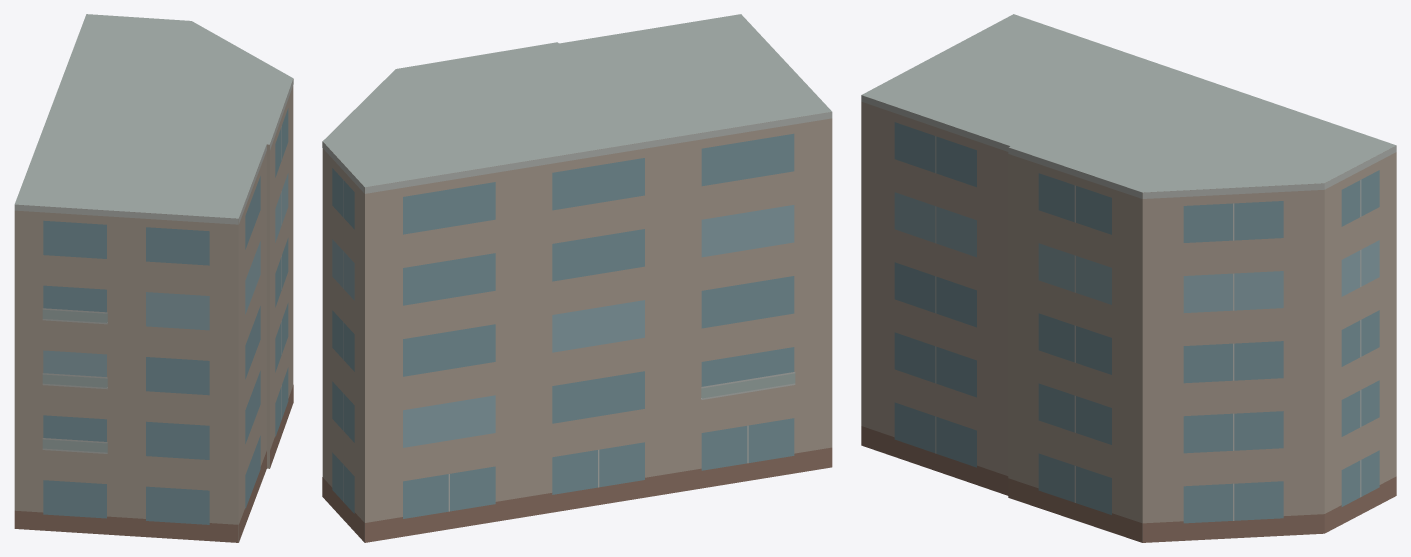
File: survey-upis-32670079.glb
3 renders of one model, left to right at view 1: azimuth 30°, elevation 25°; view 2: azimuth 150°, elevation 25°; view 3: azimuth 270°, elevation 25°, orthographic. The views are drawn at different scales.
Parts seen in each view (by area): view 1: survey-upis-32670079.tmp; view 2: survey-upis-32670079.tmp; view 3: survey-upis-32670079.tmp.
Part boxes in pixels (x1,y1,x2,y2): survey-upis-32670079.tmp: (14,14,293,542); survey-upis-32670079.tmp: (322,14,832,542); survey-upis-32670079.tmp: (861,14,1396,542).
Bounding box in the file's own units: 14.32 × 13.1 × 18.15.
